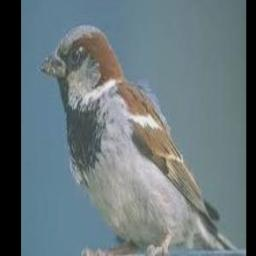Sparrow: (38, 24, 238, 255)
